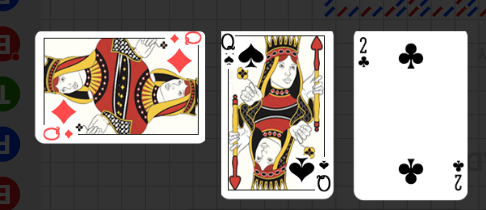2C: (357, 35, 371, 70)
9D: (41, 126, 75, 142), (168, 31, 203, 45)
